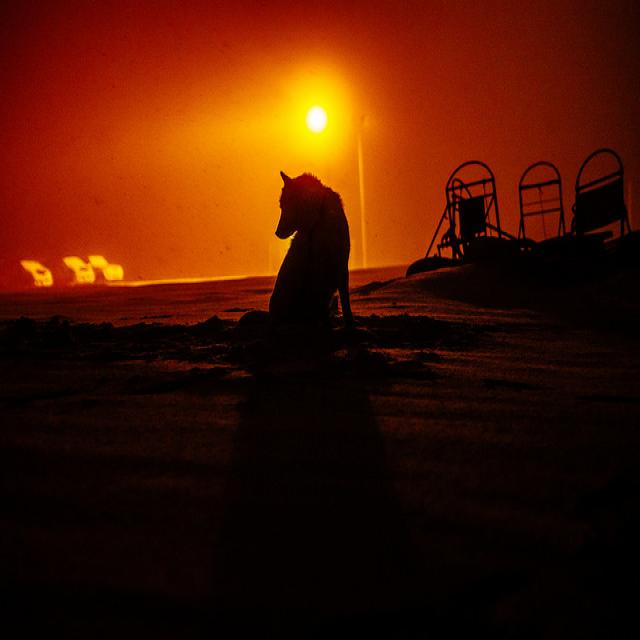Dog: (207, 178, 364, 399)
